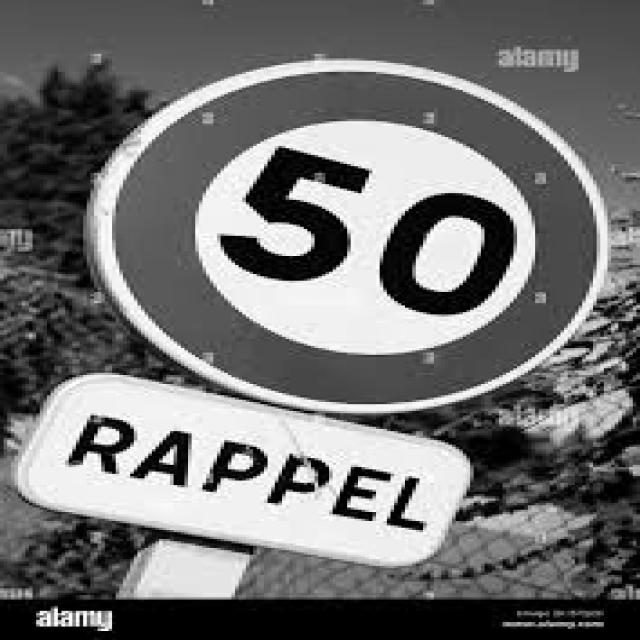speed_50: (87, 61, 613, 410)
